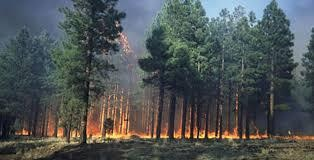fire: (119, 31, 130, 52), (16, 127, 31, 136)
